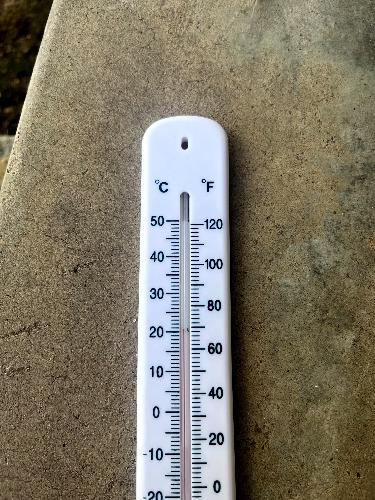thermo: (134, 117, 237, 500)
